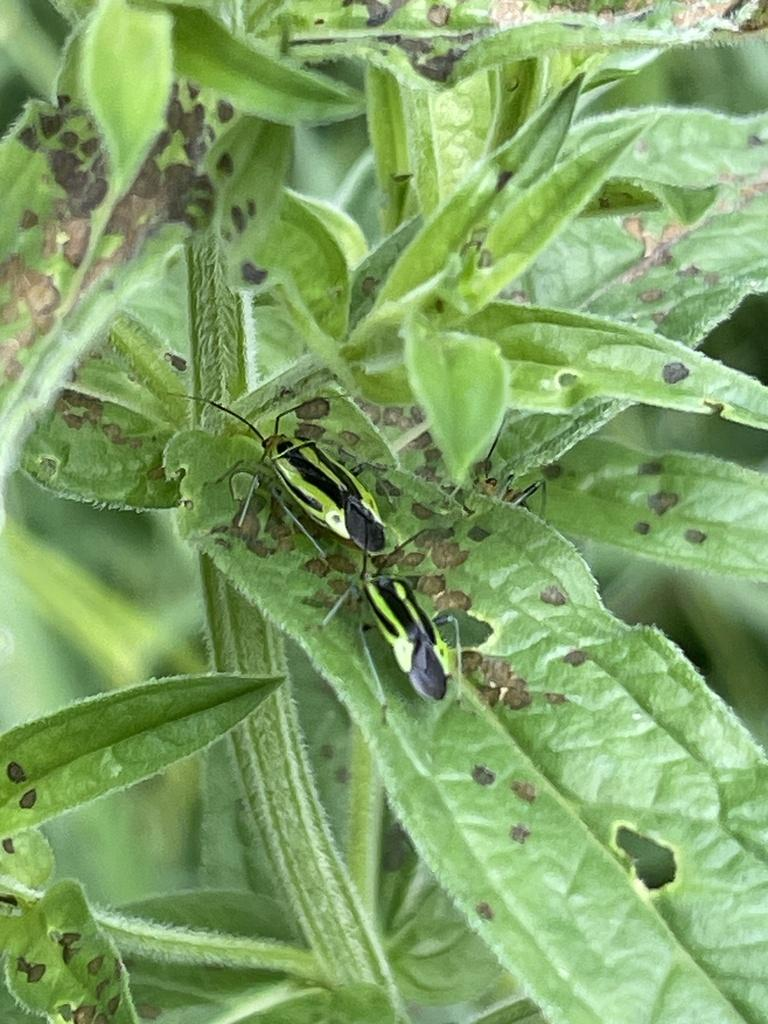plant_bugs: (139, 351, 431, 574), (323, 560, 494, 727)
